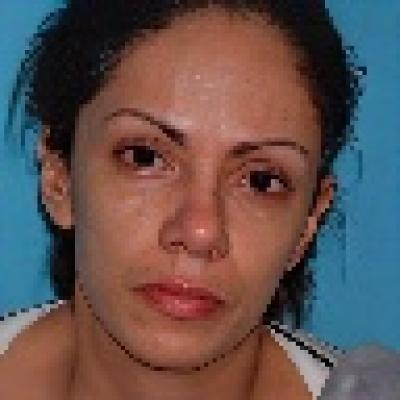angry: (71, 19, 305, 358)
